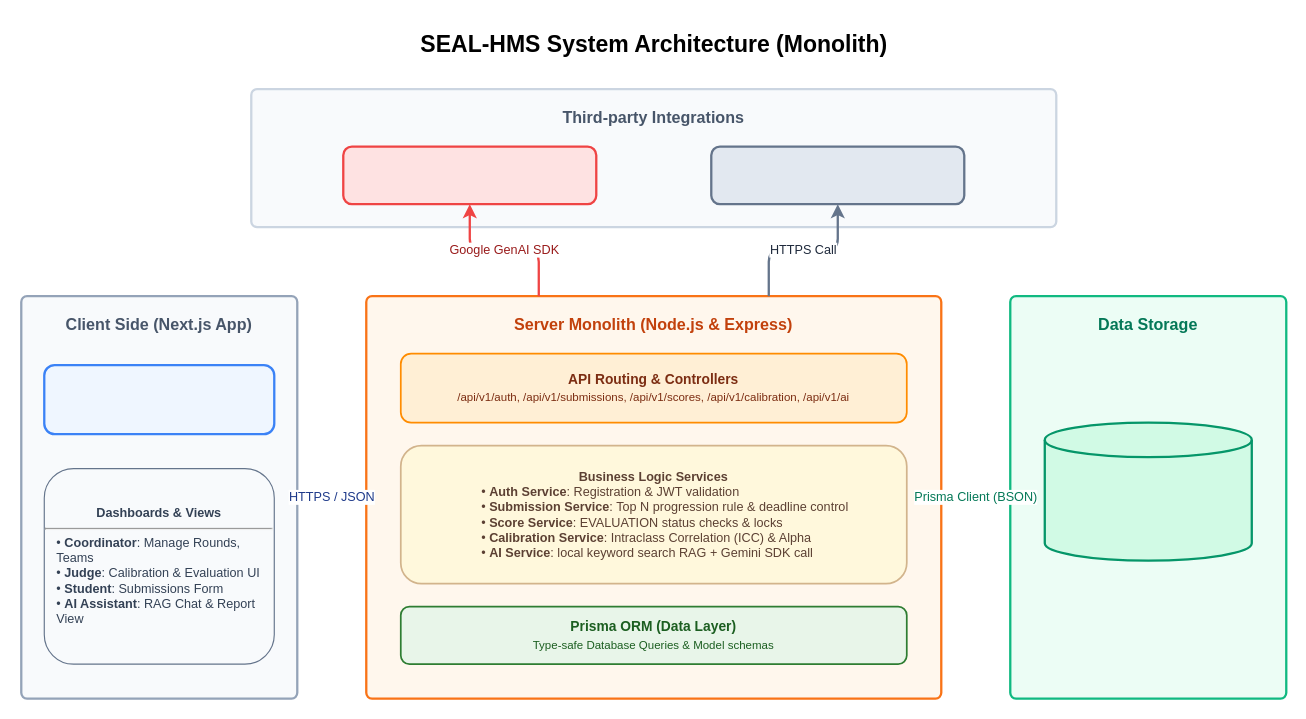
This 1306x719 diagram has some shape labels left out. Here are the shapes that lost their labels. From the top down, the centre of each, then its label:
At point (469, 175): "Google Gemini API Gemini 2.5 Flash (RAG & Analytics)".
At point (837, 175): "GitHub API Repository Scraper Check".
At point (159, 399): "Web Application Next.js 14 (App Router) Tailwind CSS & Lucide Icons".
At point (1147, 491): "MongoDB Database Replica Set (rs0) Supports transactional queries for Prisma".
